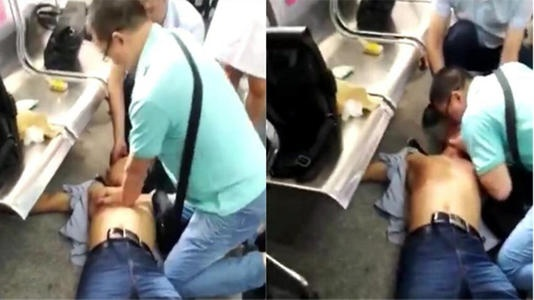falling: (41, 141, 203, 294)
